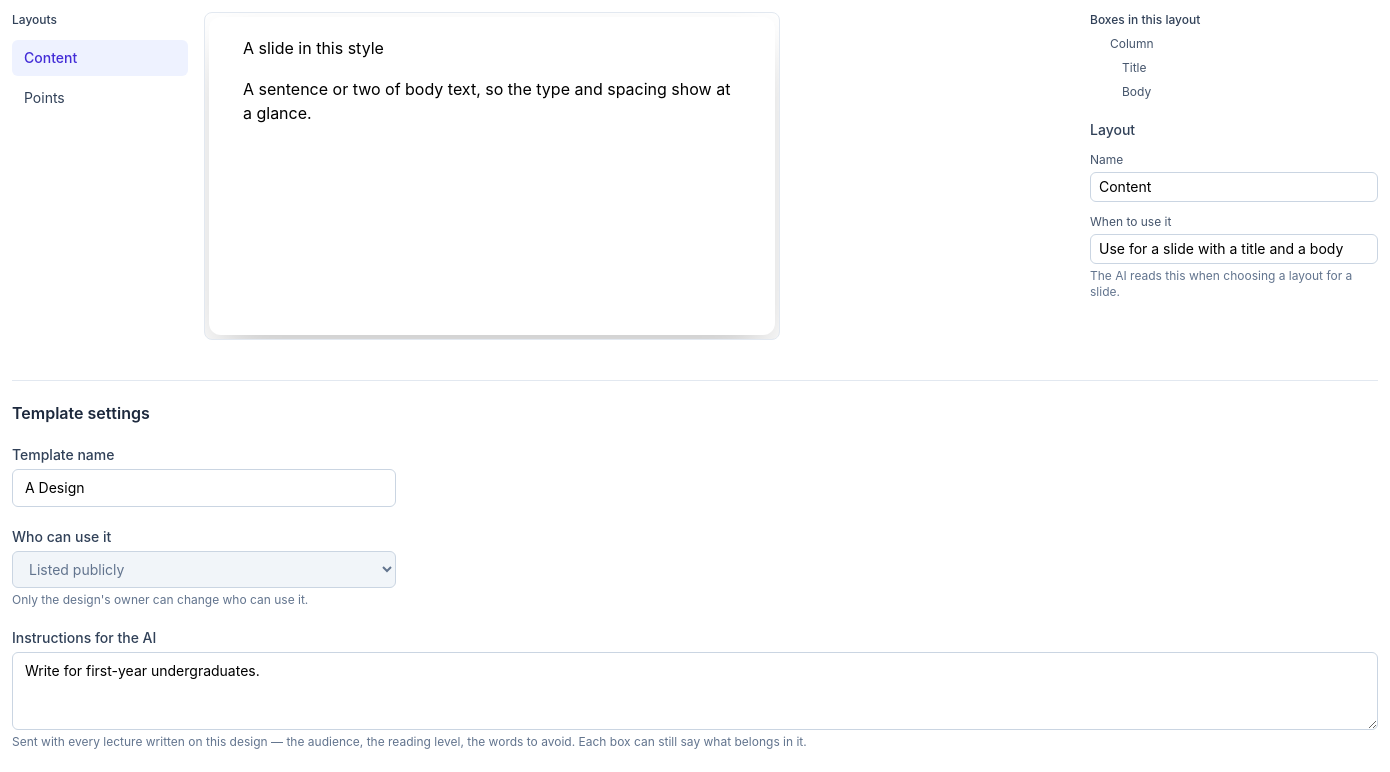
Scenario: TemplateReaderView (TMPL-29) › offers a way back to a layout’s own settings once a box is selected
Step 1. Click the button "Body" → x=1137, y=92, box left=1122, top=84, right=1151, bottom=99
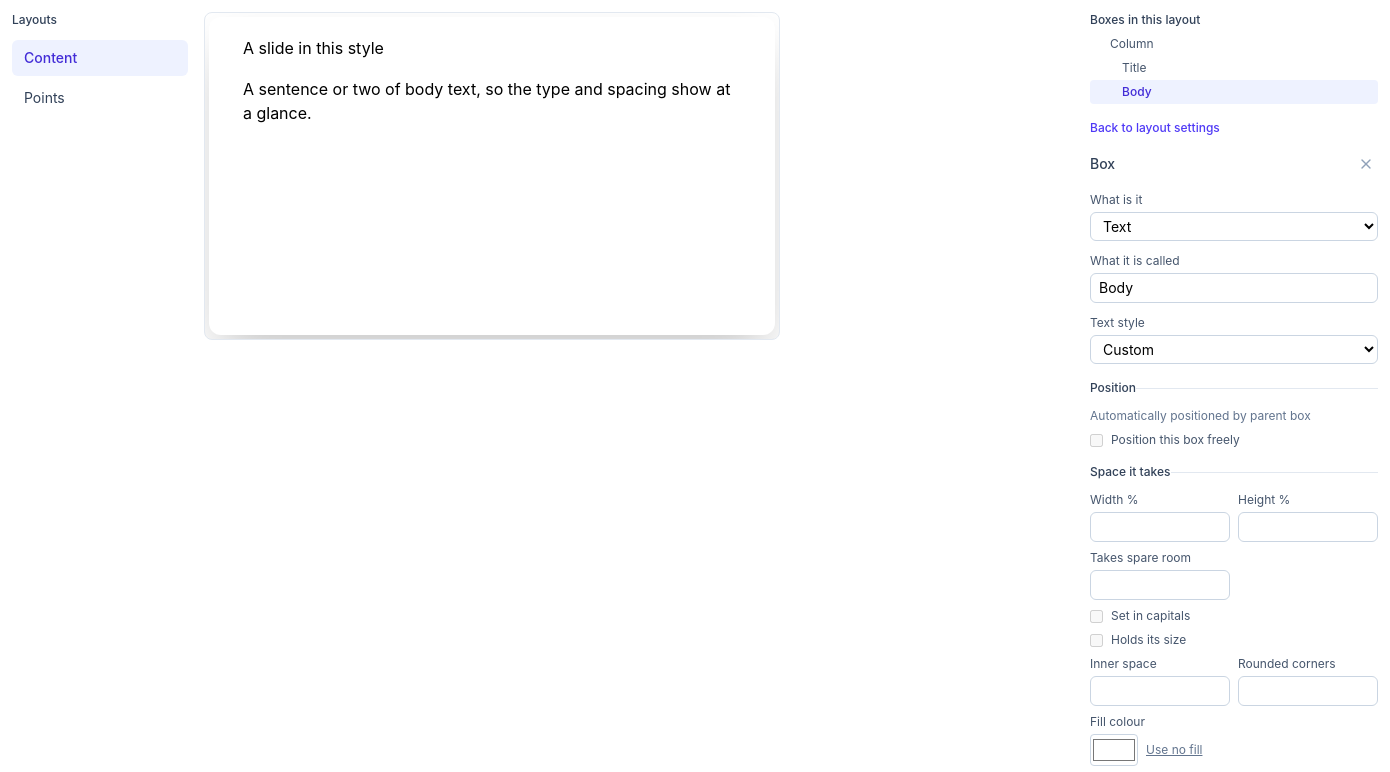
Check: the button "Back to layout settings" is shown
Step 2. Click the button "Back to layout settings" → x=1155, y=128, box left=1090, top=120, right=1220, bottom=136
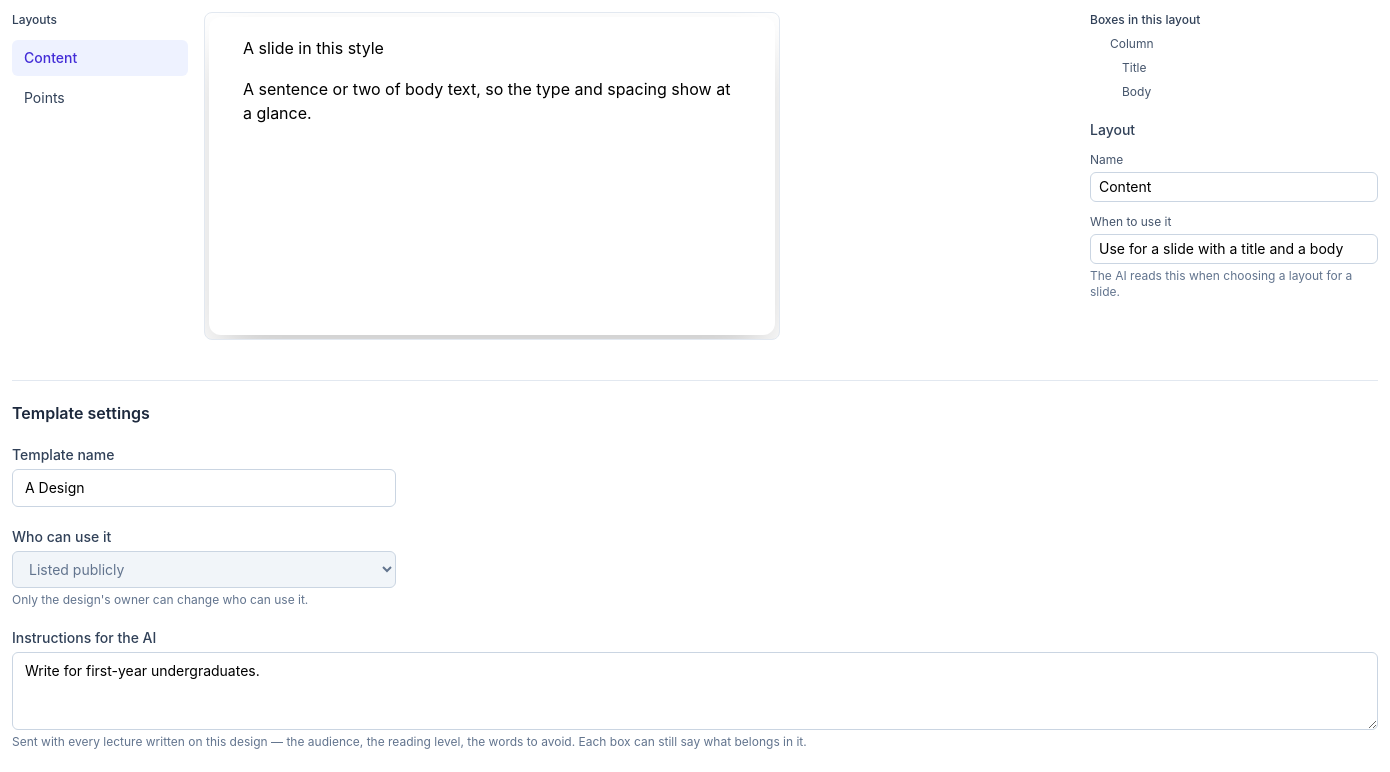
Check: the field showing "Use for a slide with a title and a body" is shown, box left=1090, top=234, right=1378, bottom=264
